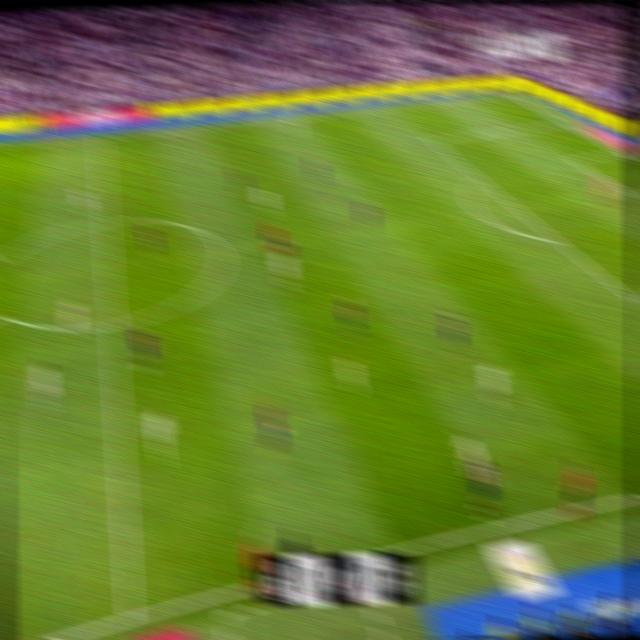bigarea_top_inner: (424, 131, 440, 147)
bigarea_top_outter: (553, 115, 568, 127)
bottom_arc_area_intersection: (547, 230, 565, 249)
halfcircle_bottom: (102, 309, 122, 337)
halfcircle_top: (94, 208, 115, 233)
midline_bottom_intersection: (116, 597, 143, 634)
midline_top_intersection: (92, 129, 107, 144)
smallarea_top_inner: (565, 151, 581, 166)
top_arc_area_intersection: (473, 169, 488, 187)
